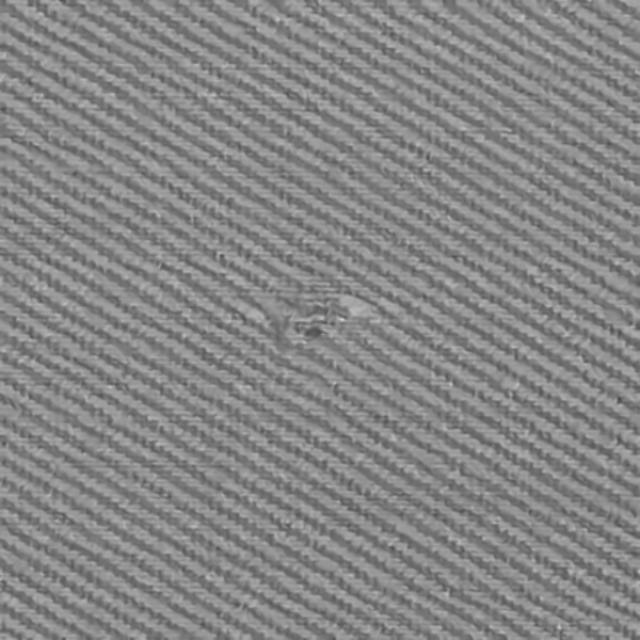other: (239, 260, 410, 418)
